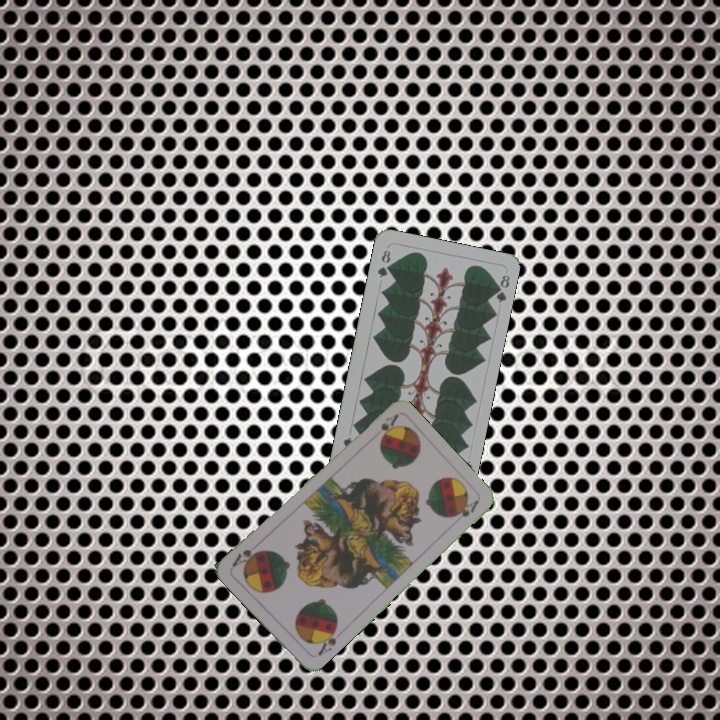G8: (373, 245, 393, 280)
SA: (367, 410, 401, 442), (313, 623, 340, 659)
